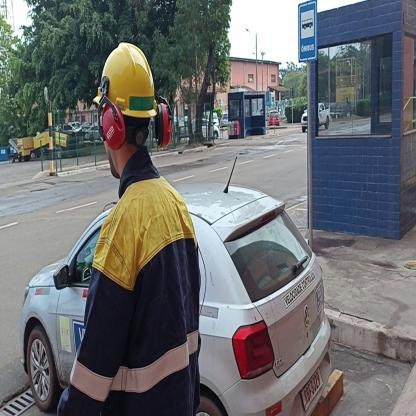C_eletrica: (89, 183, 201, 416)
Capacete: (96, 38, 158, 115)
